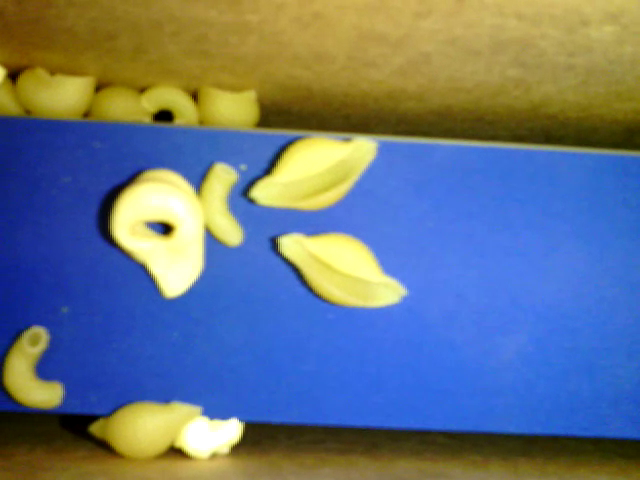elbow: (4, 325, 64, 408), (198, 161, 245, 248), (139, 83, 197, 123)
shell: (246, 135, 381, 212), (279, 231, 409, 310), (90, 400, 203, 460), (16, 66, 95, 118), (197, 87, 258, 127), (91, 84, 154, 121)
tortellini: (108, 167, 205, 299)
